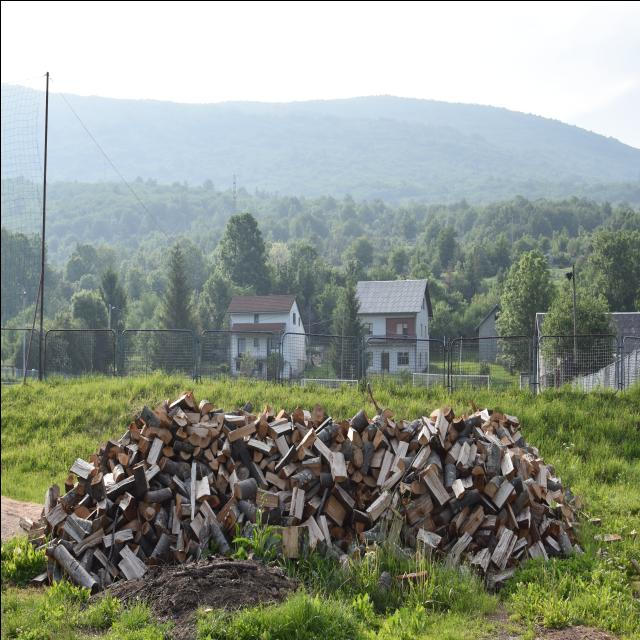restos de madeira: (52, 540, 96, 593), (285, 461, 321, 515), (440, 449, 470, 508), (185, 496, 218, 542), (374, 571, 428, 599), (370, 512, 400, 562), (445, 407, 483, 445), (164, 496, 187, 554), (190, 516, 228, 550), (96, 520, 134, 554), (442, 530, 476, 568), (414, 522, 447, 560), (210, 440, 237, 486), (336, 403, 370, 439), (328, 522, 366, 554), (100, 471, 138, 502), (381, 416, 424, 443), (112, 544, 146, 578), (136, 502, 166, 540), (186, 468, 214, 508), (222, 494, 246, 540), (489, 529, 517, 568), (322, 440, 348, 482), (403, 488, 431, 526), (234, 494, 262, 532), (376, 464, 408, 497), (253, 442, 284, 476), (366, 384, 394, 421), (184, 462, 198, 534), (344, 481, 374, 514), (138, 479, 176, 505), (422, 474, 452, 506), (180, 420, 212, 450), (250, 399, 274, 439), (159, 391, 195, 417), (95, 434, 119, 472), (222, 418, 256, 444), (354, 438, 374, 482), (51, 486, 80, 516), (308, 423, 334, 456), (126, 463, 148, 502), (59, 517, 92, 543), (458, 503, 483, 537), (483, 498, 508, 532), (298, 515, 322, 549), (408, 440, 432, 474), (501, 426, 525, 460), (67, 454, 96, 482), (481, 442, 501, 482), (454, 436, 478, 469), (266, 412, 292, 442), (148, 531, 174, 561), (303, 398, 330, 426), (491, 478, 515, 508), (136, 407, 166, 431), (156, 457, 190, 478), (509, 504, 534, 532), (285, 482, 303, 520), (327, 546, 354, 570), (295, 426, 316, 456), (20, 518, 46, 542), (525, 539, 547, 565), (274, 404, 300, 426), (482, 472, 504, 497), (534, 509, 551, 541), (518, 450, 536, 480), (327, 489, 357, 507), (472, 545, 486, 583), (44, 480, 56, 524), (391, 444, 406, 478), (532, 462, 548, 492), (230, 402, 254, 422), (260, 473, 286, 491), (231, 478, 255, 497), (548, 498, 570, 518), (280, 525, 294, 556), (316, 513, 330, 543), (564, 492, 582, 513), (344, 510, 370, 524), (485, 411, 506, 428), (558, 528, 570, 555), (196, 396, 214, 414), (435, 411, 447, 436), (416, 421, 428, 446), (502, 413, 516, 423)
